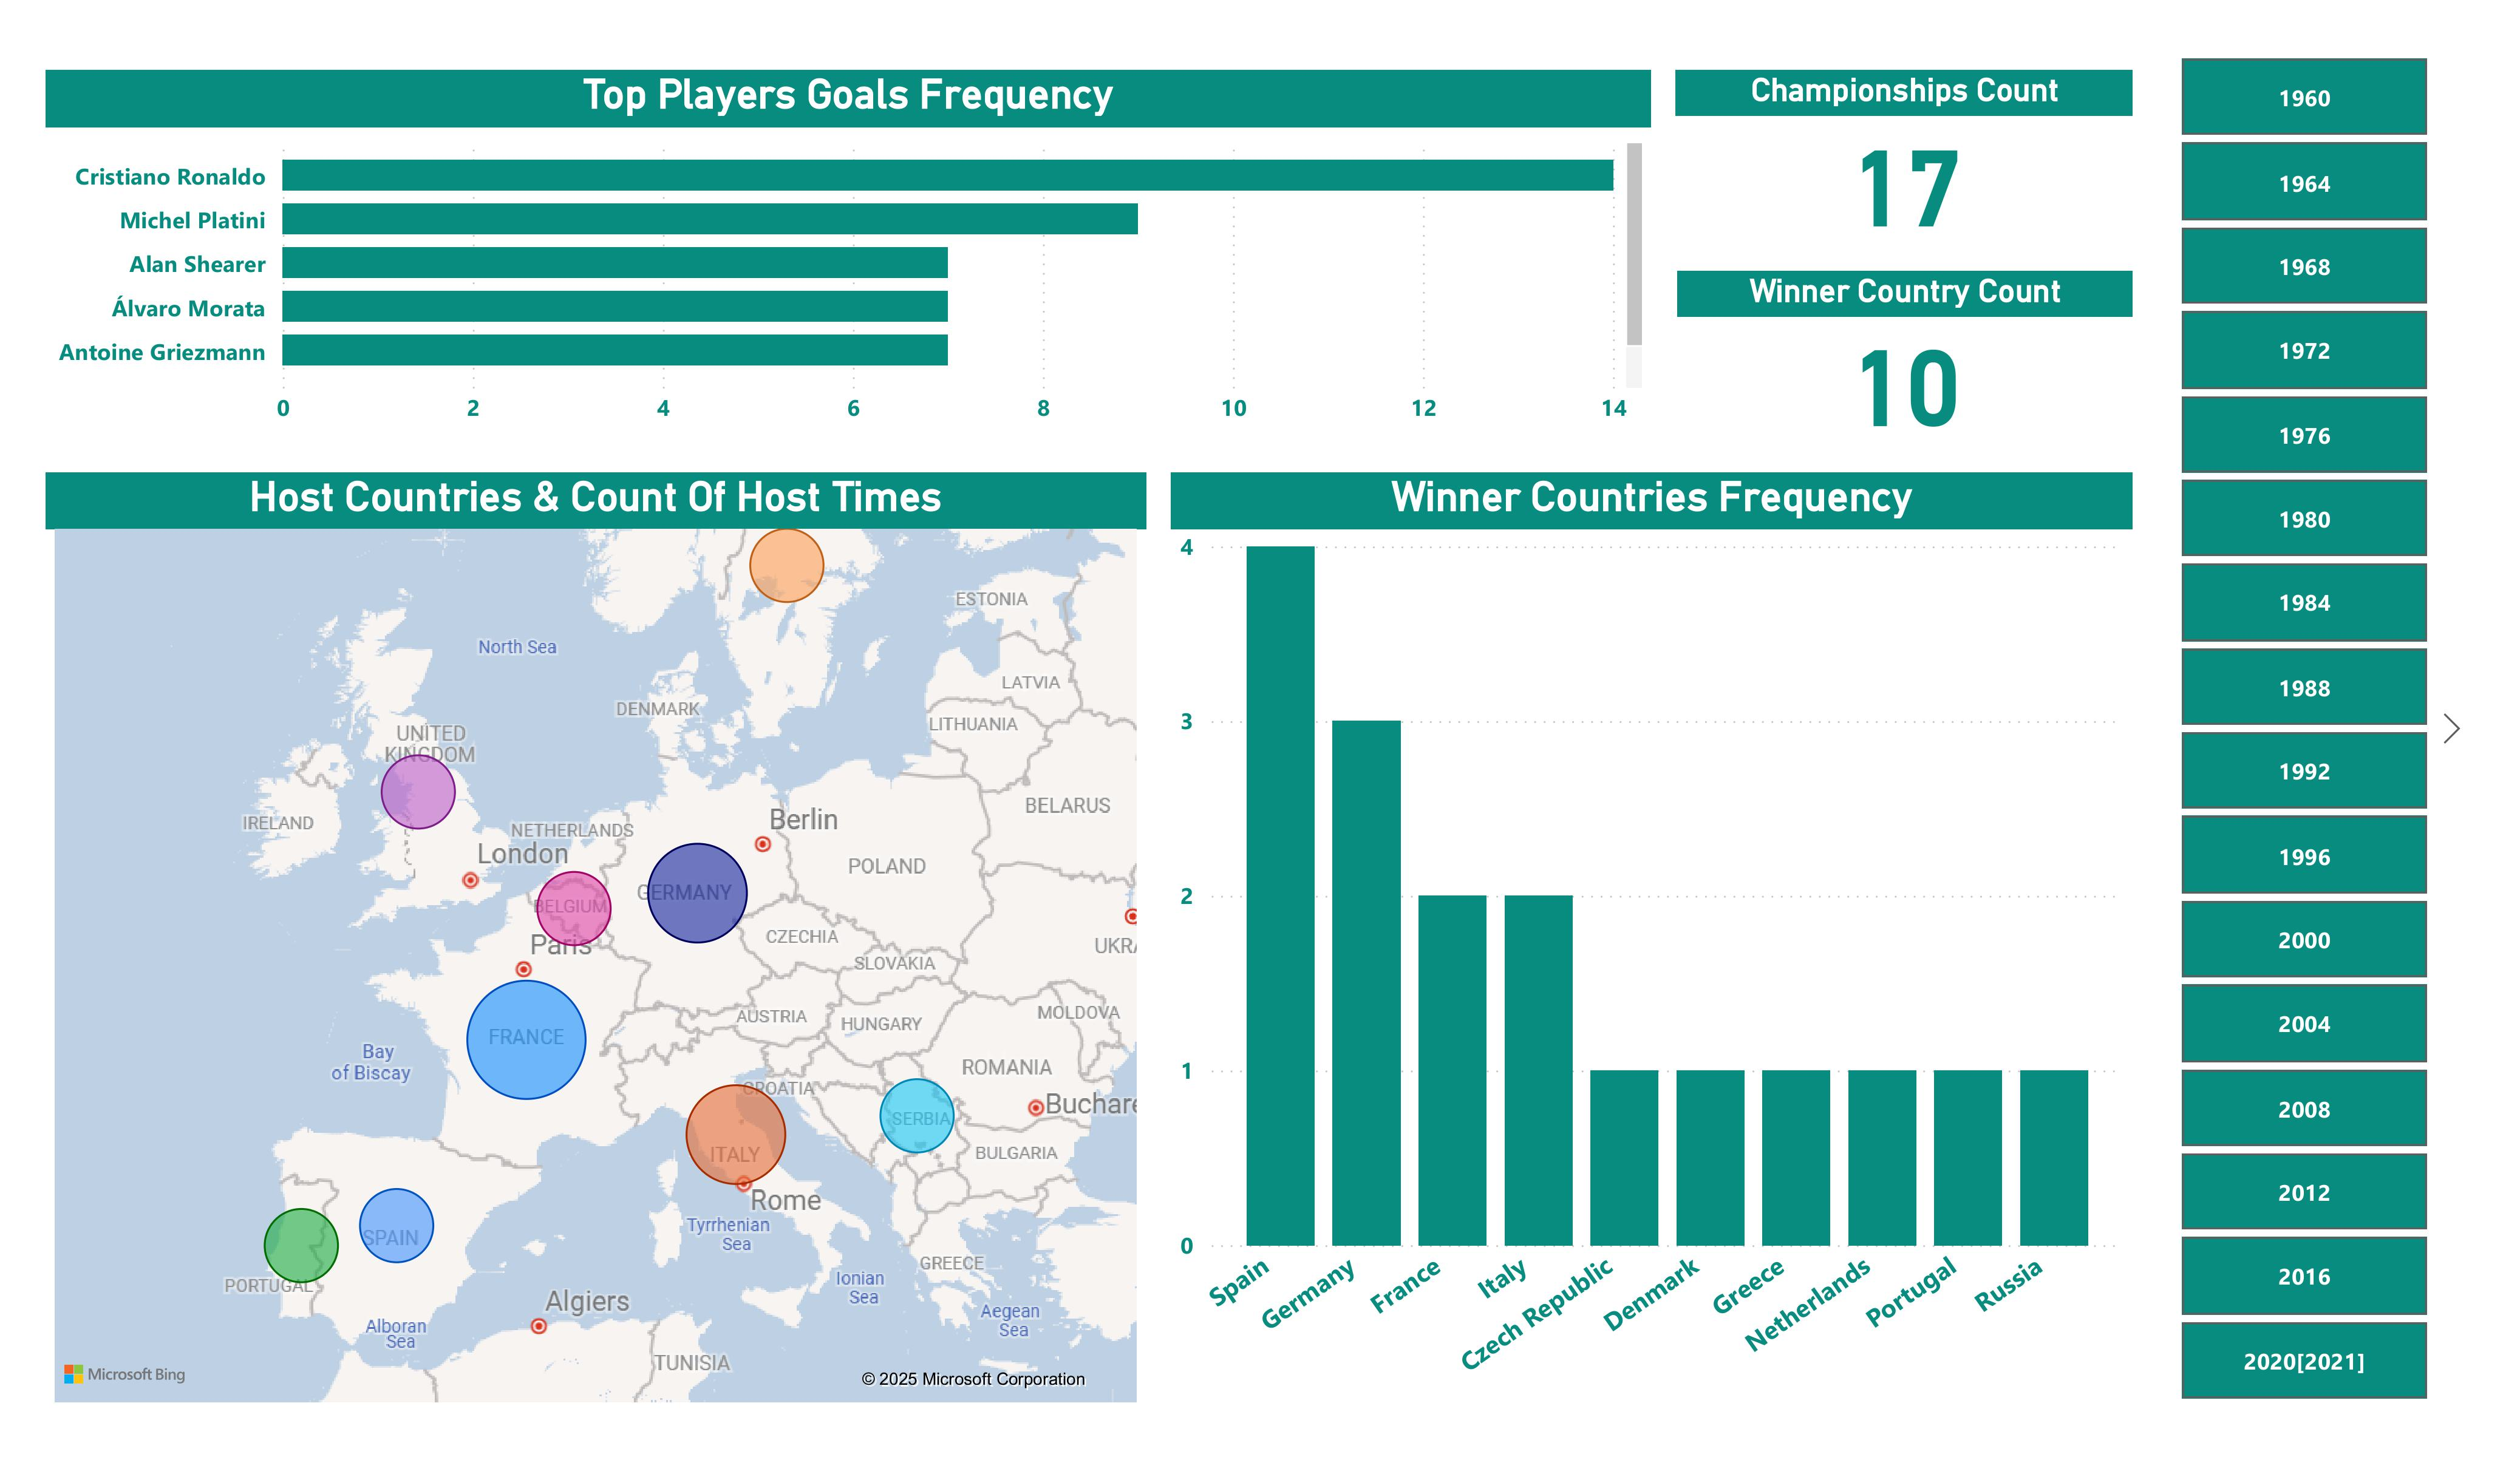

Layout of this report page (visuals, bound fields, positions):
{"tool":"powerbi","page":{"name":"Dashboard_1","canvas":[1280,720],"ordinal":0},"visuals":[{"type":"map","title":"Host Countries & Count Of Host Times","fields":{"Category":["Championships_Finals.Country_Host"],"Size":["Championships_Finals.Host_Count"],"Series":["Championships_Finals.Country_Host"]},"box":[0,224.9,580.2,495.1],"z":0},{"type":"card","title":"Championships  Count","fields":{"Values":["Championships_System_Details.Championships Count"]},"box":[859.3,13.3,241.4,91.2],"z":1000},{"type":"clusteredColumnChart","title":"Winner Countries Frequency","fields":{"Category":["Team_Performances.Team"],"Y":["Team_Performances.Win_Count"]},"box":[593.4,224.9,506.5,495.1],"z":2000},{"type":"card","title":"Winner Country Count","fields":{"Values":["Team_Performances.Winner_Country_Count"]},"box":[859.8,119.1,240,90.7],"z":3000},{"type":"barChart","title":"Top Players Goals Frequency","fields":{"Category":["Top_Goalscorers.Player"],"Y":["Top_Goalscorers.Goals_Scored"]},"box":[0,13.3,845.9,195.8],"z":4000},{"type":"slicer","fields":{"Values":["Championships_Finals.Year"]},"box":[1099.9,0,179.5,720],"z":5000}]}

Visuals, with their boxes on the page's 1280x720 design canvas (x1, y1, x2, y2). These are canvas units, not pixel positions in the 2520x1457 screenshot, which may show the page scaled, cropped or inside an application window:
"Host Countries & Count Of Host Times" map: <box>0,225,580,720</box>
"Championships  Count" card: <box>859,13,1101,104</box>
"Winner Countries Frequency" clusteredColumnChart: <box>593,225,1100,720</box>
"Winner Country Count" card: <box>860,119,1100,210</box>
"Top Players Goals Frequency" barChart: <box>0,13,846,209</box>
slicer - Championships_Finals.Year: <box>1100,0,1279,720</box>
